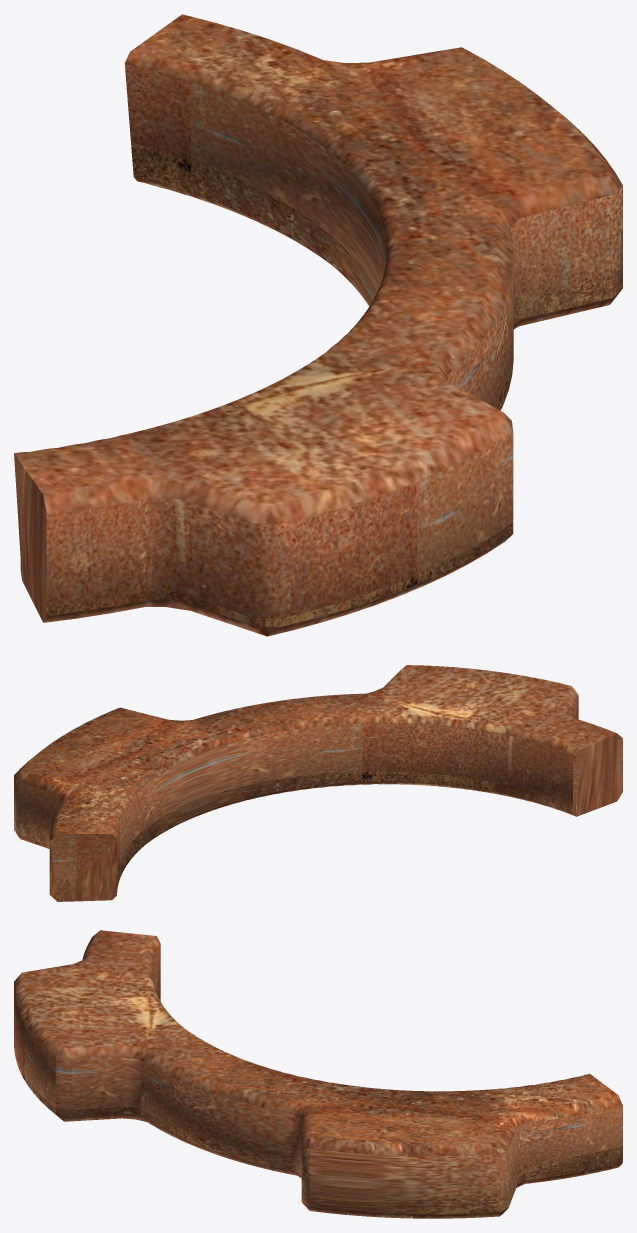
Rendered from 割れた歯車5Ａ 破片1.fbx.
3 renders of one model, top to bottom at view 1: azimuth 30°, elevation 25°; view 2: azimuth 150°, elevation 25°; view 3: azimuth 270°, elevation 25°, orthographic. The views are drawn at different scales.
Visible parts, largest first — view 1: obj2; view 2: obj2; view 3: obj2.
Part boxes in pixels (x1,y1,x2,y2): obj2: (14,14,622,636); obj2: (14,665,622,901); obj2: (14,930,622,1218).
Size of the model in its own units: 141 by 22.03 by 165.
Materials: 1 (1 with a texture image).
